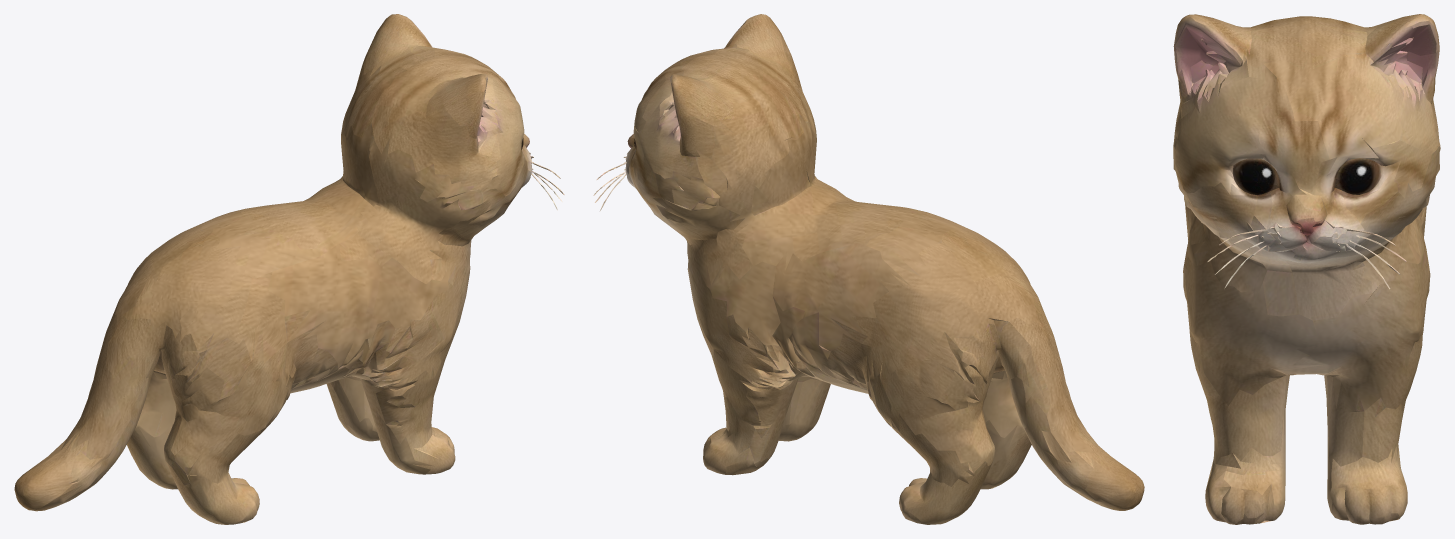
File: catcoin-6.glb
The picture shows the model from 3 angles, left to right: view 1: azimuth 30°, elevation 25°; view 2: azimuth 150°, elevation 25°; view 3: azimuth 270°, elevation 25°; orthographic projection. The views are drawn at different scales.
Visible parts, largest first — view 1: fit; view 2: fit; view 3: fit.
Boxes of the visible parts, bbox=[...] form: fit: bbox=[14, 14, 564, 524]; fit: bbox=[593, 14, 1144, 524]; fit: bbox=[1173, 14, 1440, 524].
Bounding box in the file's own units: 1.36 × 1 × 0.4654.
Materials: 1 (1 with a texture image).
